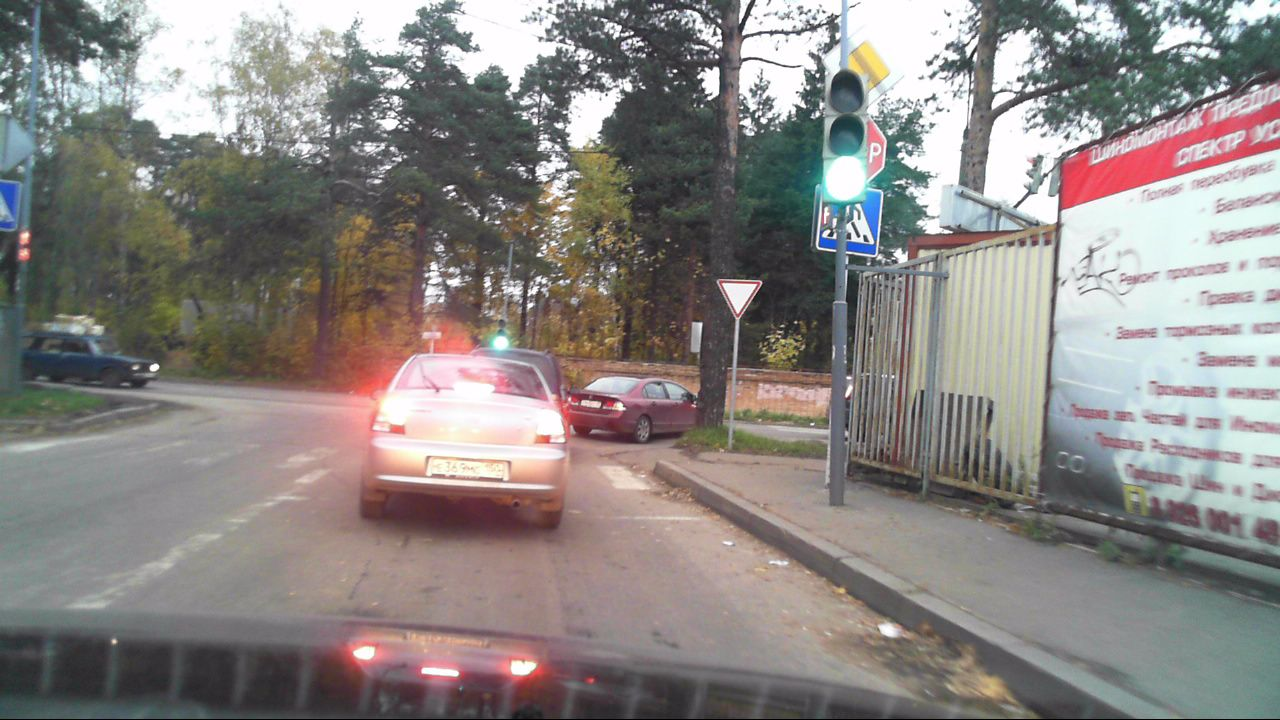main road: (828, 28, 905, 109)
